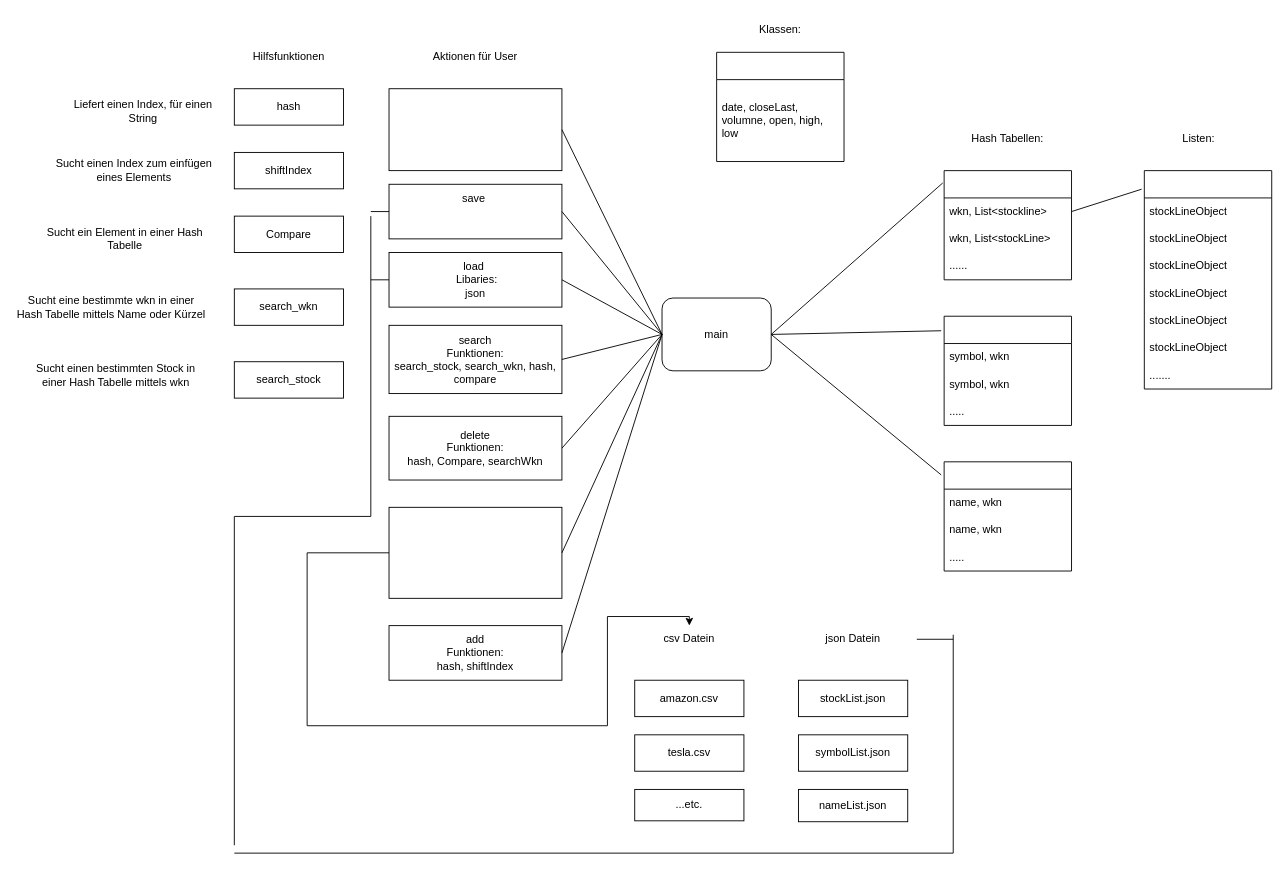
The diagram is 1288 pixels wide and 870 high, and some of its shapes have lost their labels. The box of each missing label's shape, as (x1, y1, x2, y2) in pixels:
class stockLine: (716, 51, 844, 162)
import Funktionen: searchWkn, ShiftIndex Libaries: csv: (388, 506, 562, 598)
plot Funktionen: searcn_stock, search_wkn Libaries: pyplot: (388, 88, 562, 171)
stockLines: (1143, 170, 1272, 389)
stockList: (943, 170, 1072, 280)
stockNameList: (943, 461, 1072, 571)
stockSymbolList: (943, 315, 1072, 425)
